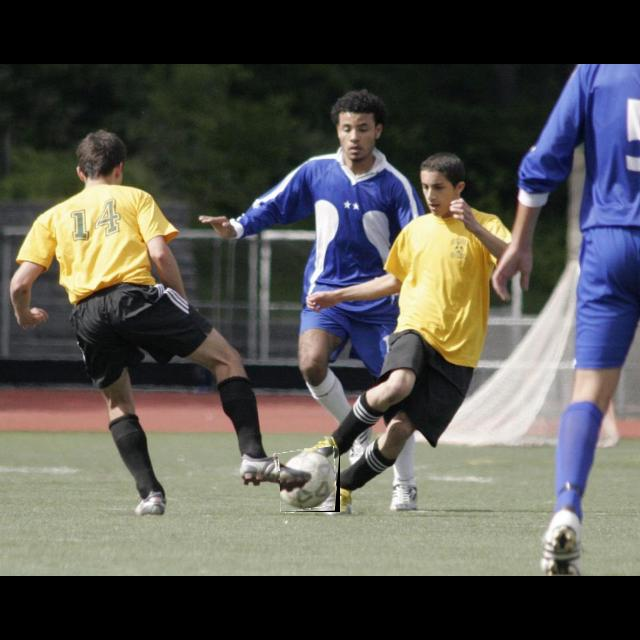Football: (280, 448, 340, 512)
